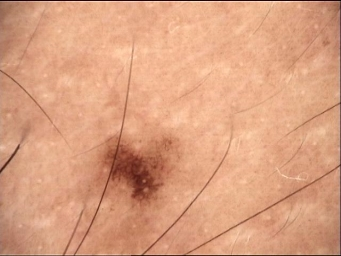melanoma: (101, 136, 179, 205)
